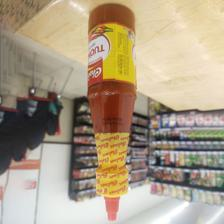Tuong: (86, 1, 139, 224)
